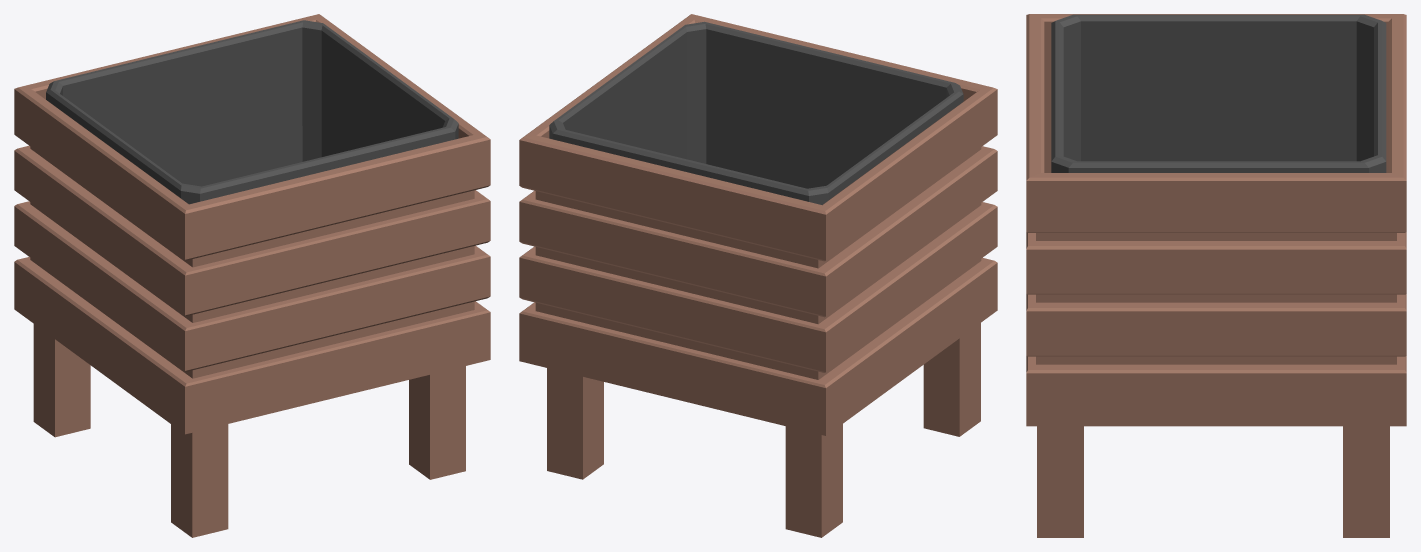
Rendered from Planter_Medium.fbx.
3 views of the same model, side by side, from view 1: azimuth 30°, elevation 25°; view 2: azimuth 150°, elevation 25°; view 3: azimuth 270°, elevation 25° (orthographic). The views are drawn at different scales.
Parts seen in each view (by area): view 1: Planter_Med; view 2: Planter_Med; view 3: Planter_Med.
Boxes of the visible parts, <box> form: Planter_Med: <box>14,14,490,537</box>; Planter_Med: <box>519,14,997,537</box>; Planter_Med: <box>1026,14,1406,537</box>.
Bounding box in the file's own units: 60 × 63.62 × 58.13.
